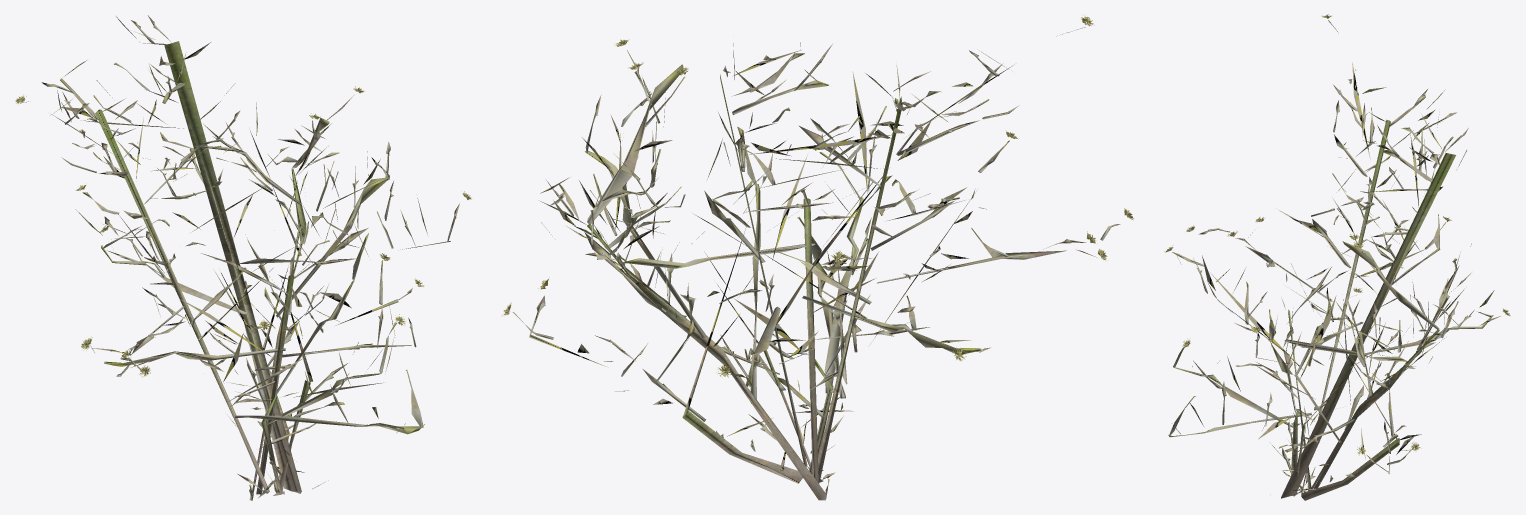
File: didelta_spinosa_v1.glb
3 views of the same model, side by side, from view 1: azimuth 30°, elevation 25°; view 2: azimuth 150°, elevation 25°; view 3: azimuth 270°, elevation 25° (orthographic). The views are drawn at different scales.
Parts seen in each view (by area): view 1: lod0; view 2: lod0; view 3: lod0.
Part boxes in pixels (x1,y1,x2,y2): lod0: (15,15,471,500); lod0: (501,15,1133,500); lod0: (1164,14,1510,500).
Size of what is drawn, in the model's own units: 2.02 by 2.03 by 1.65.
Materials: 1 (1 with a texture image).
